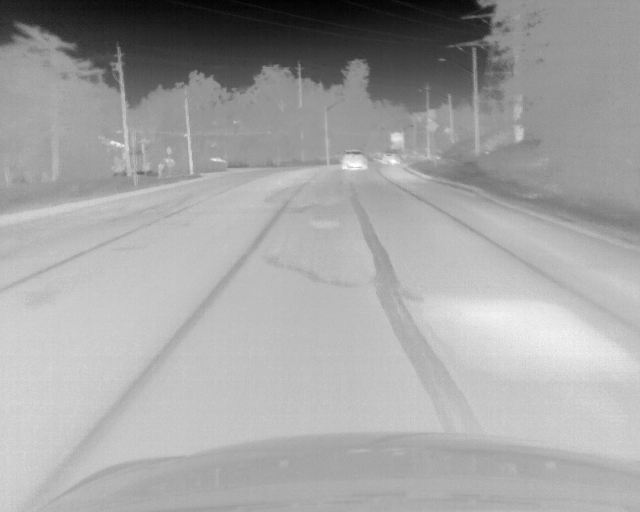car: (342, 150, 367, 169), (381, 151, 400, 164)
